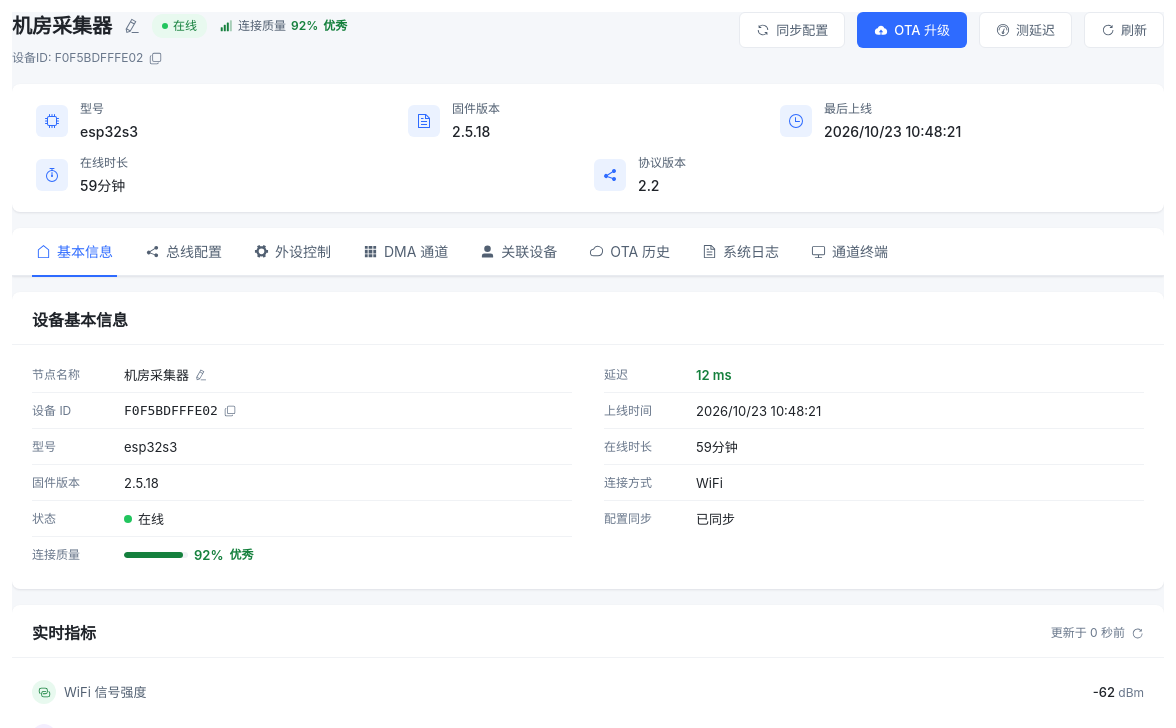
it: NodeOverview (生产页) › 总线工作台仅展示真实通道能力，并按设计稿保留工具分组与连续右栏
Click the tab with class "tab-item" showing "总线配置" at (184, 251), box [145,242,222,260]
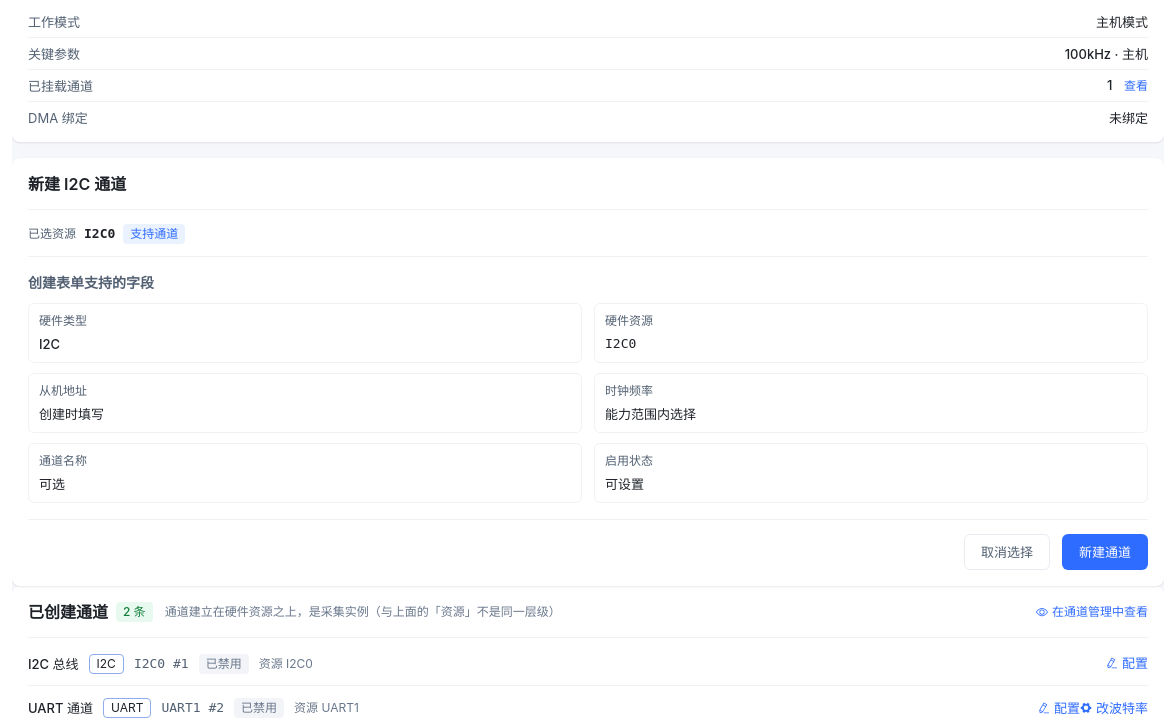
Now the element with class "bus-create-card" is shown, box [12,158,1164,586]
Now the element with class "bus-create-card" shows "创建表单支持的字段", box [28,274,154,291]
Now the element with class "bus-create-card" shows "从机地址", box [39,383,87,398]
